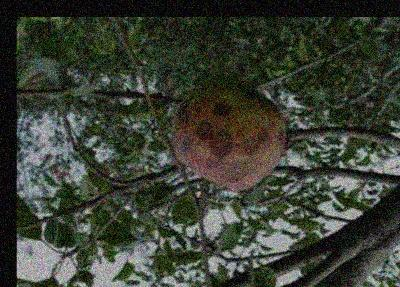rotten apple: (171, 91, 279, 190)
